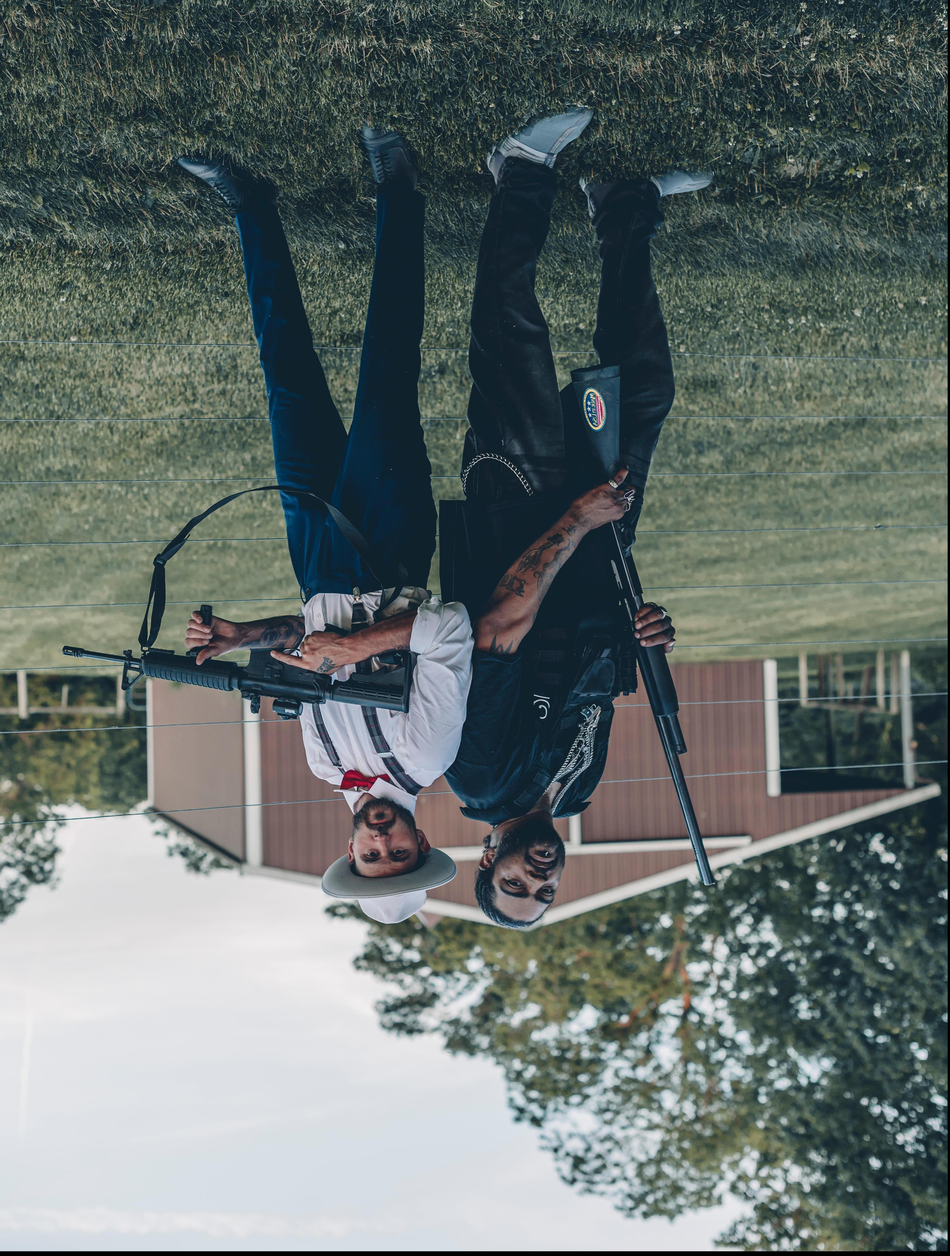larga: (570, 363, 718, 888), (60, 644, 414, 719)
